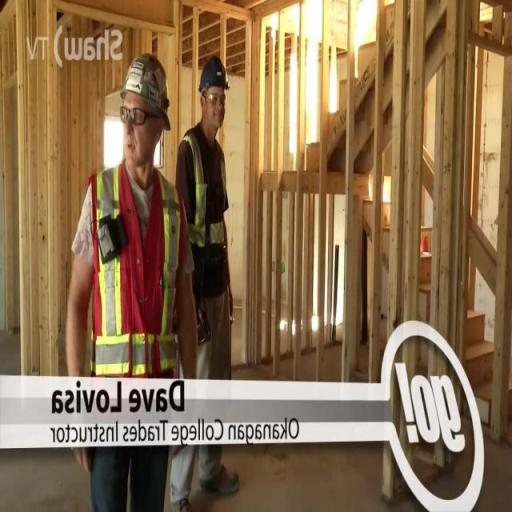helmet: (193, 47, 234, 104)
vest: (63, 159, 194, 387), (170, 124, 242, 310)
